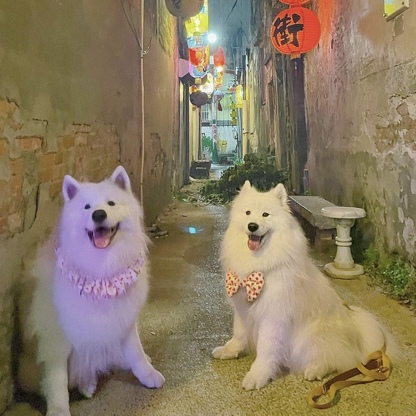samoyed: (207, 171, 404, 416), (11, 157, 171, 416)
